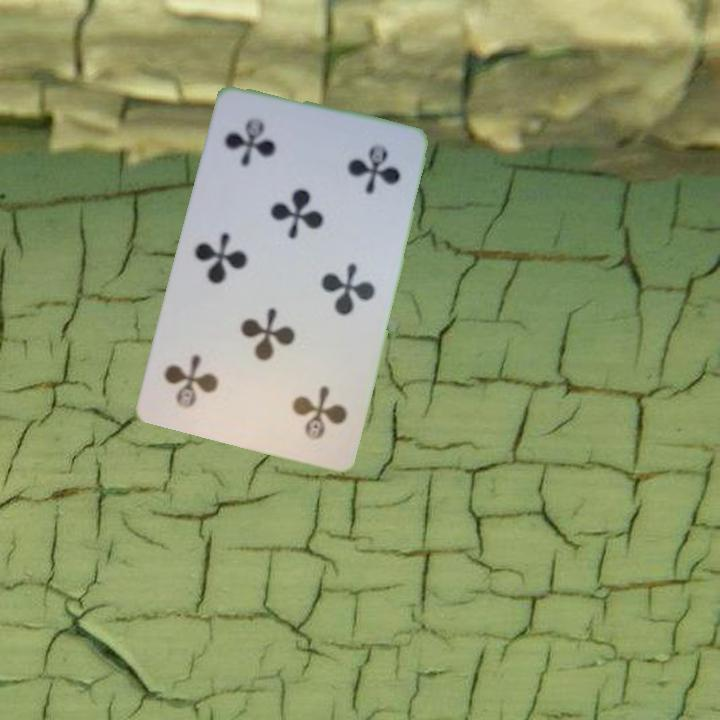c_8.png: (212, 97, 329, 204), (243, 349, 360, 456)
